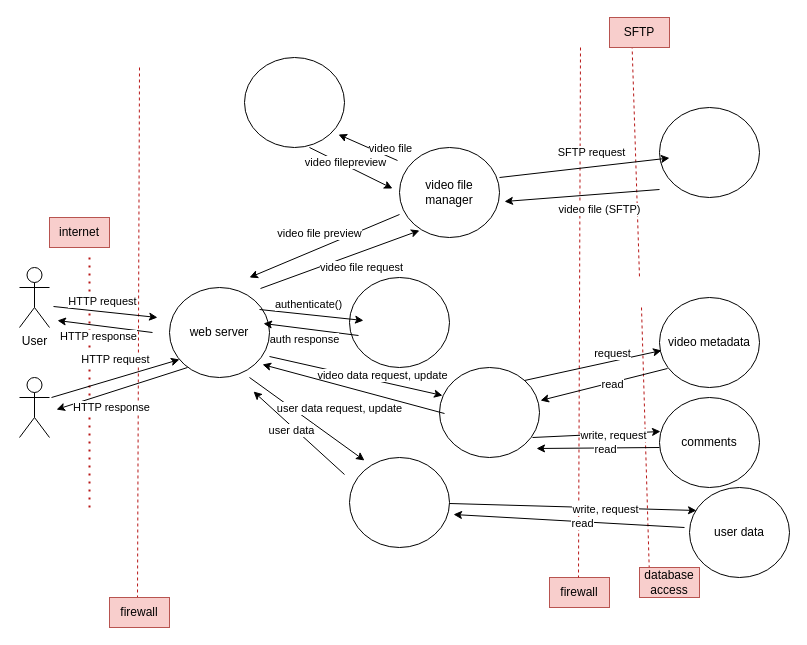
Some shapes in this 807 by 645 pixel diagram are drawn without their labels. The box of each missing label's shape, as (x1, y1, x2, y2) in pixels:
Admin: (18, 376, 50, 438)
authentication unit: (348, 276, 450, 368)
native vidoe file parser: (244, 56, 344, 148)
user data manager: (348, 456, 450, 548)
vide data manager: (438, 366, 540, 458)
video files: (658, 106, 760, 198)
